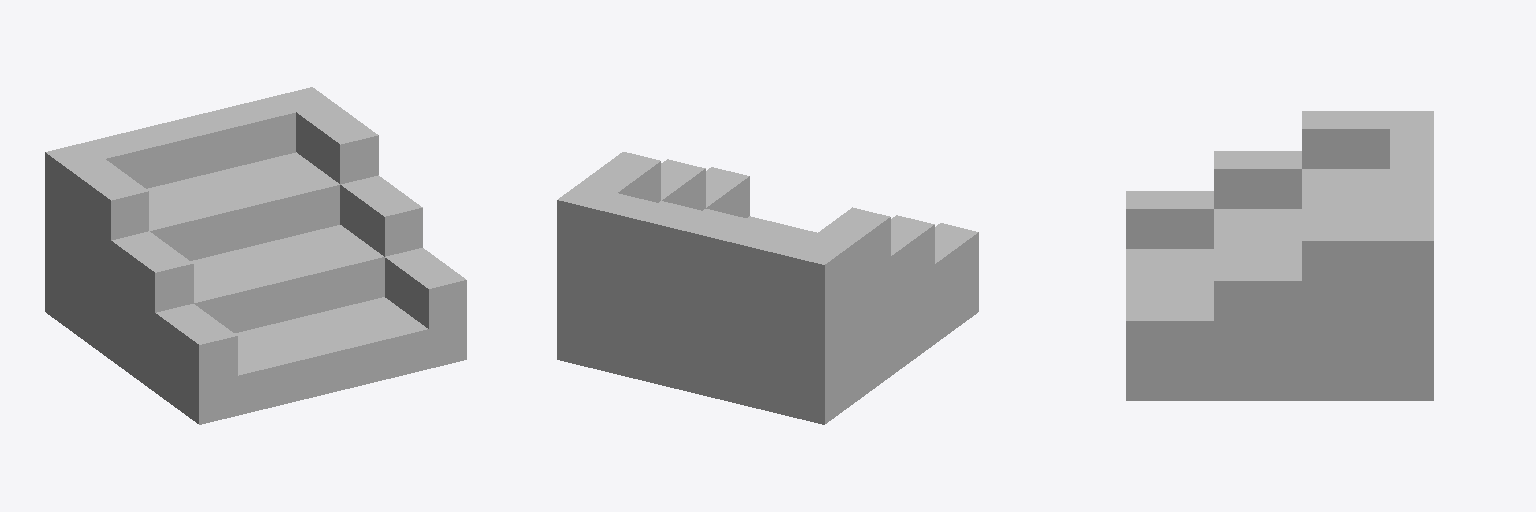
Rendered from obj-stair.obj.
3 renders of one model, left to right at view 1: azimuth 30°, elevation 25°; view 2: azimuth 150°, elevation 25°; view 3: azimuth 270°, elevation 25°, orthographic.
Parts seen in each view (by area): view 1: stair; view 2: stair; view 3: stair.
Part boxes in pixels (bbox=[...]): stair: bbox=[45, 87, 466, 424]; stair: bbox=[557, 152, 978, 424]; stair: bbox=[1126, 111, 1433, 400].
Bounding box in the file's own units: 0.7 × 0.4 × 0.7.